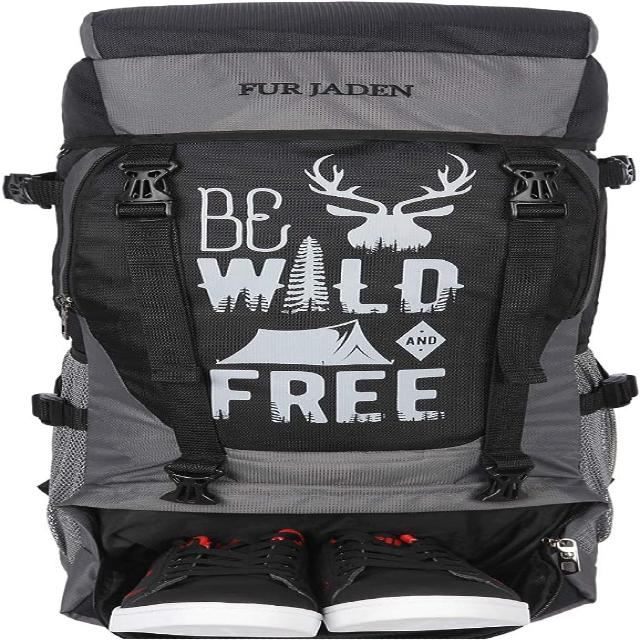backpack: (6, 2, 637, 639)
